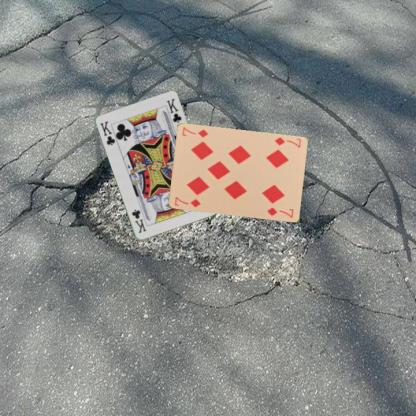7d: (172, 194, 201, 209), (272, 135, 302, 149)
Kc: (97, 119, 116, 147)
